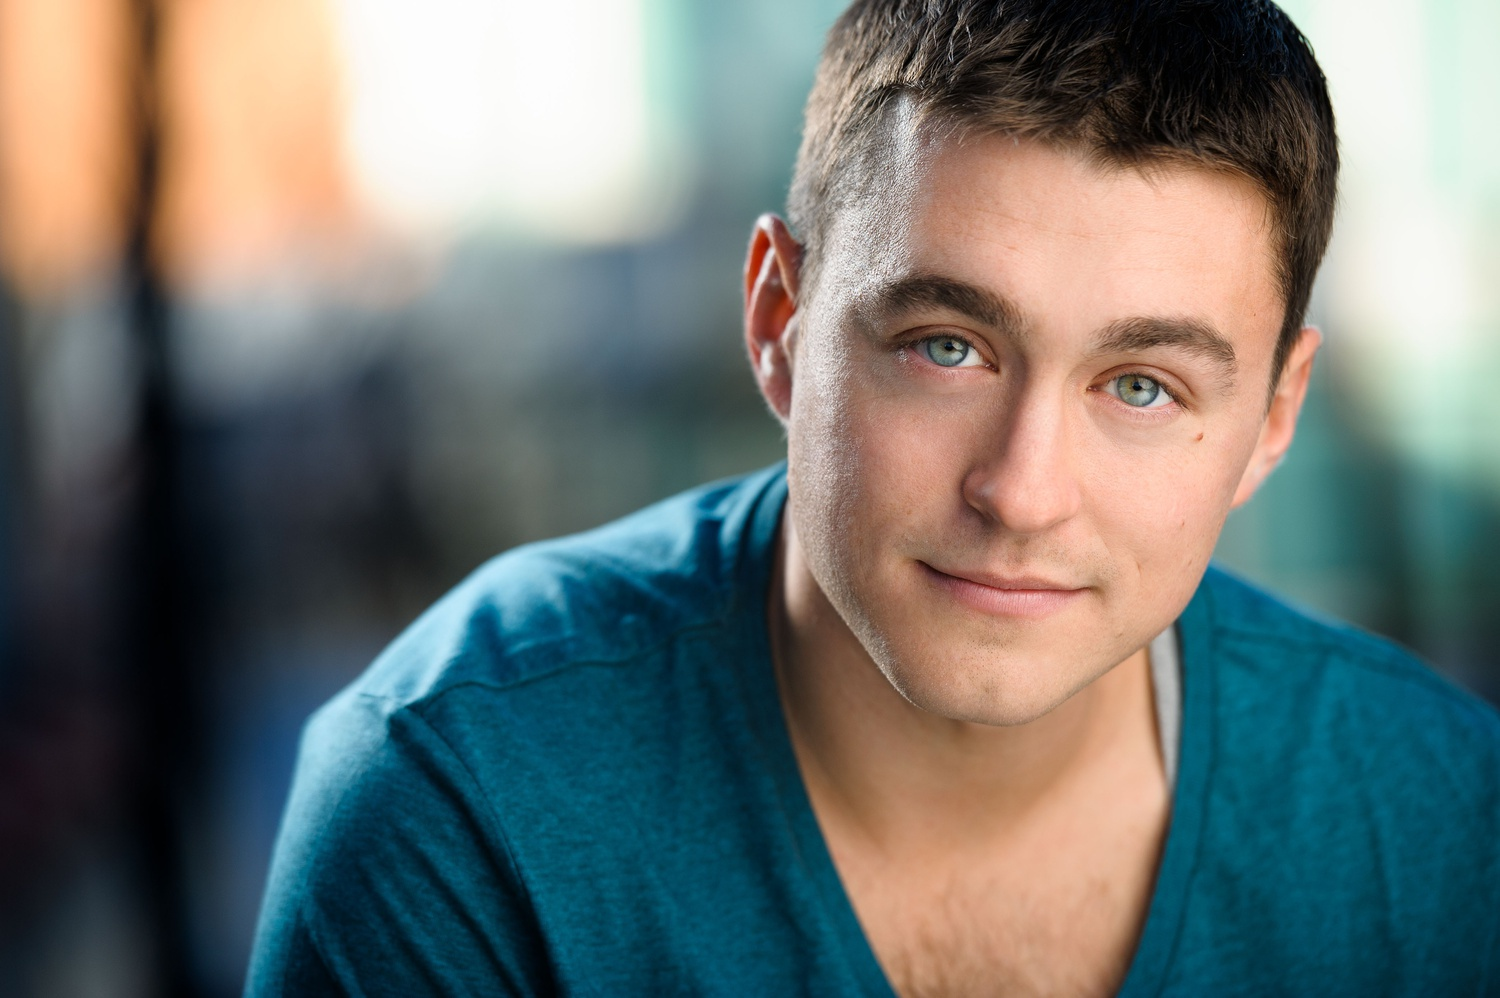bad: (810, 246, 1272, 708)
